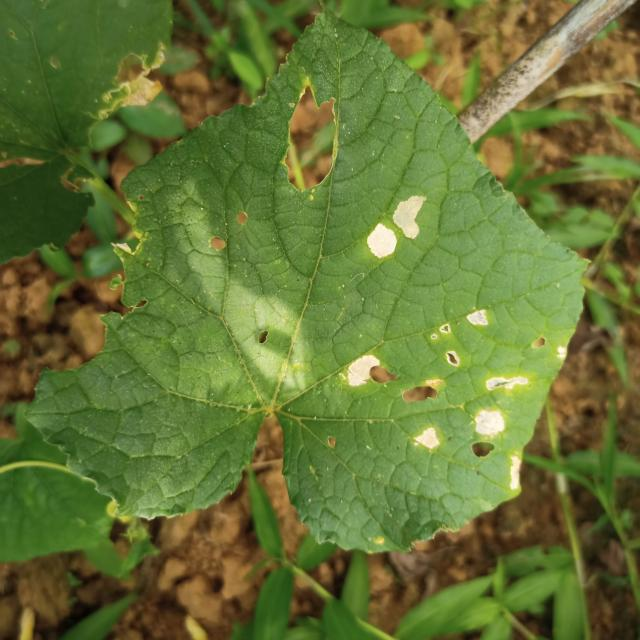disease_cucumber: (349, 309, 521, 497), (368, 194, 427, 258)
